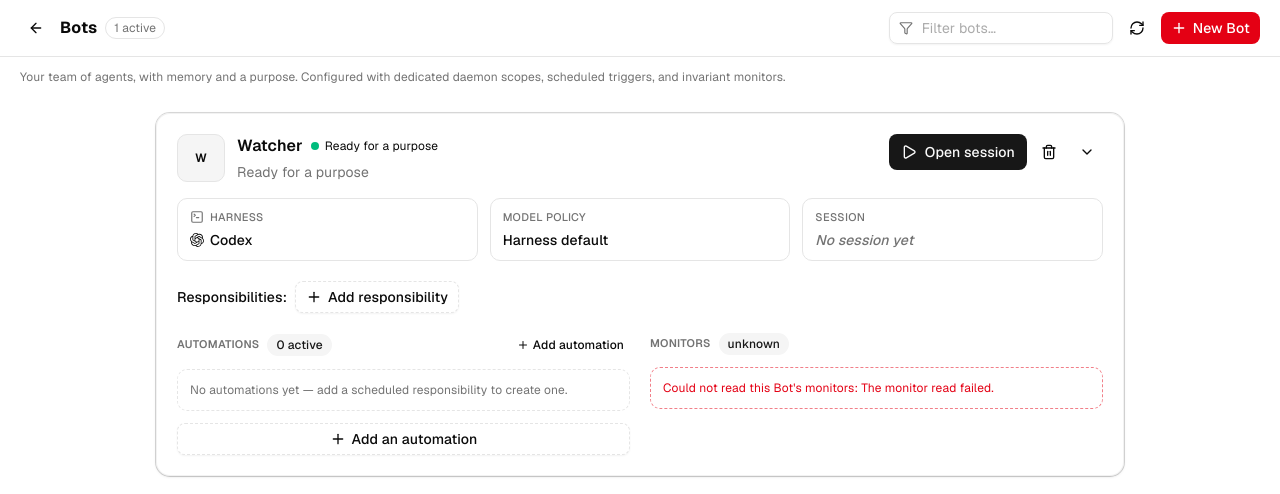
Test: use-bots-page-controller: design column side reads › collapses on the FIRST click for a failed-read bot, because it starts expanded
This screenshot has width=1280, height=494.
expect the text "Could not read this Bot's monitors: The monitor read failed." is shown: met, box [650,366,1103,408]
Click the button with test id "bot-expand-bot-1" at (1087, 152), box [1071,136,1103,168]
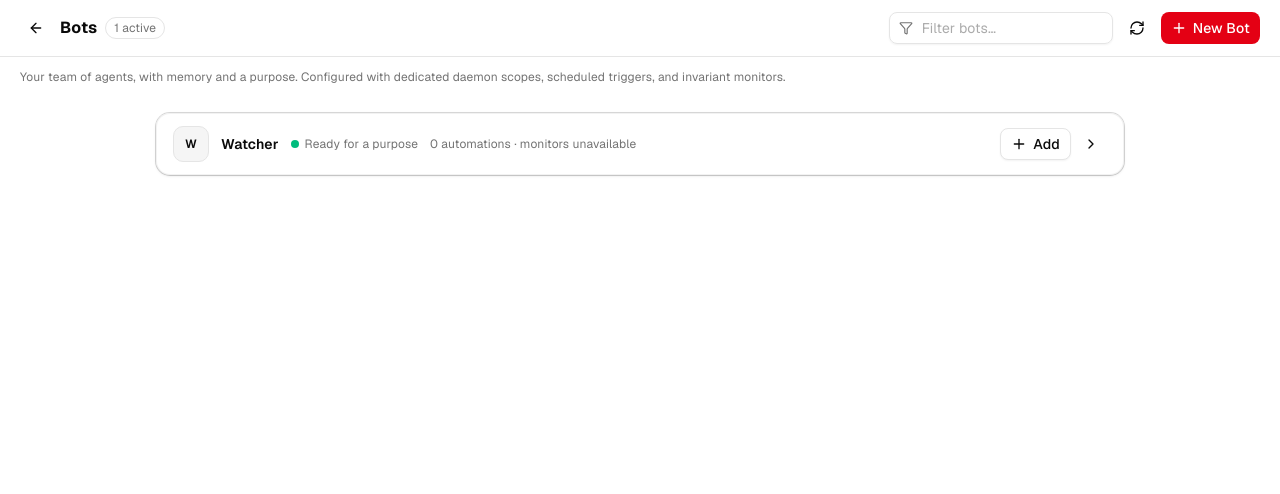
expect the text "Could not read this Bot's monitors" is gone: met
